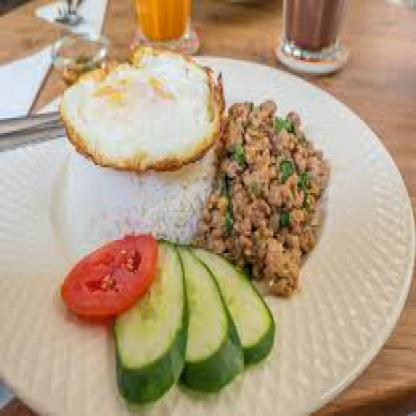Basil Rice: (0, 51, 399, 414)
